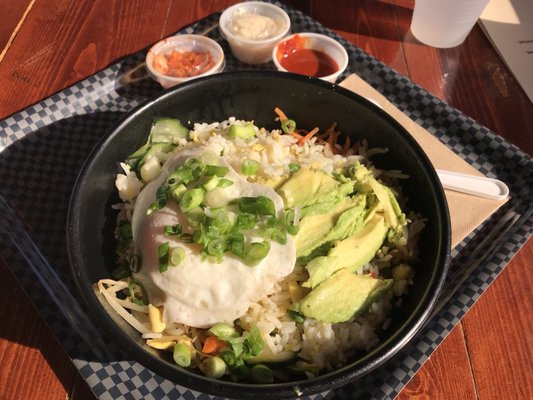sushi: (45, 70, 452, 398), (219, 1, 291, 65), (146, 35, 226, 90), (272, 32, 349, 87)
